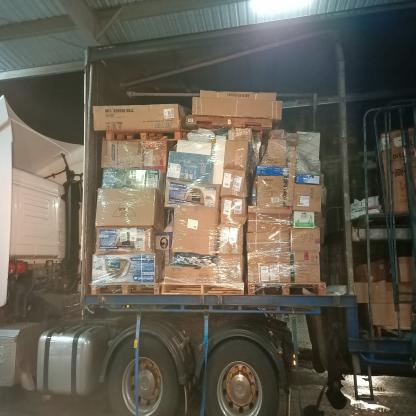label: (257, 262, 286, 282), (224, 199, 241, 217), (186, 216, 203, 234), (163, 107, 177, 121), (228, 226, 240, 242), (169, 164, 185, 176), (232, 174, 242, 192), (298, 195, 310, 209)
package: (192, 86, 287, 130), (386, 119, 414, 221), (93, 104, 191, 133), (98, 185, 158, 226), (170, 206, 220, 252), (88, 254, 156, 285), (104, 140, 168, 169), (247, 207, 289, 249), (158, 181, 221, 204), (94, 228, 156, 250), (171, 152, 211, 183), (299, 128, 324, 176), (249, 252, 289, 282), (293, 249, 325, 285), (254, 177, 289, 209), (373, 304, 416, 330), (263, 131, 292, 167), (162, 264, 216, 283), (354, 281, 395, 304), (351, 258, 394, 278), (99, 171, 160, 185), (293, 184, 322, 213), (221, 169, 247, 199), (219, 221, 245, 251), (218, 254, 243, 284), (228, 139, 250, 170), (290, 228, 322, 249), (289, 211, 321, 227), (257, 166, 297, 178), (221, 201, 244, 221), (399, 256, 414, 284)
